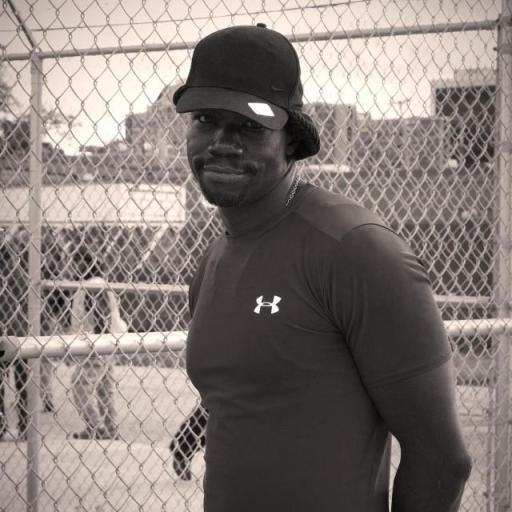Under Armour: (250, 290, 284, 318)
